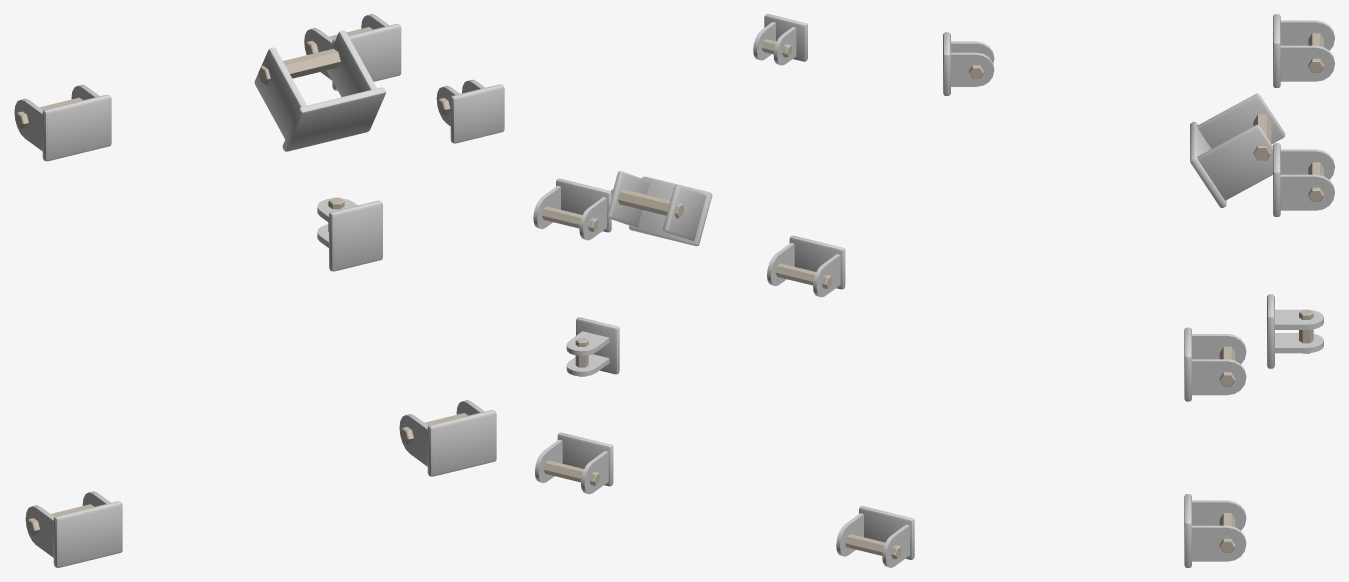
File: SM_Susp_RL_Mounts.fbx
The picture shows the model from 3 angles, left to right: view 1: azimuth 30°, elevation 25°; view 2: azimuth 150°, elevation 25°; view 3: azimuth 270°, elevation 25°; orthographic projection. The views are drawn at different scales.
Visible parts, largest first — view 1: Export_Susp_RL_Mounts; view 2: Export_Susp_RL_Mounts; view 3: Export_Susp_RL_Mounts.
Part boxes in pixels (x1=…): Export_Susp_RL_Mounts: x1=14, y1=14, x2=504, y2=567; Export_Susp_RL_Mounts: x1=533, y1=14, x2=914, y2=567; Export_Susp_RL_Mounts: x1=943, y1=14, x2=1334, y2=567.
Bounding box in the file's own units: 0.398 × 0.478 × 0.5149.
